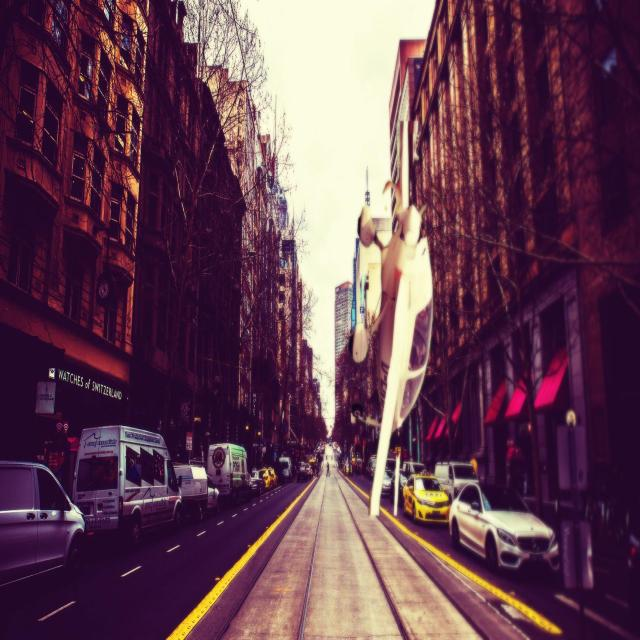airplane: (353, 200, 433, 520)
